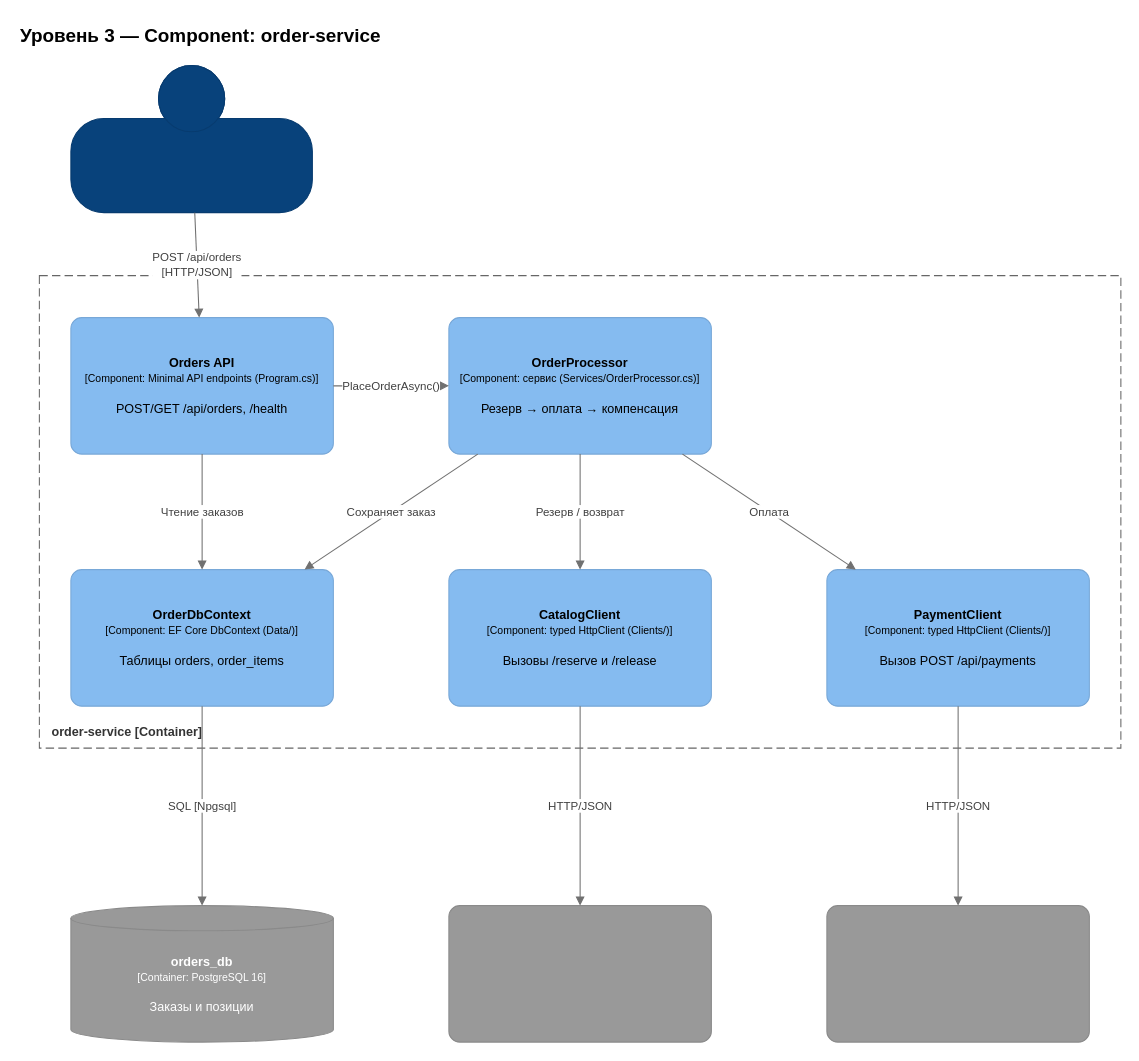
This 1139x1061 diagram has some shape labels left out. Here are the shapes that lost their labels. From the top down, the centre of each, then its label:
At point 191,139: "Покупатель [Person] Просматривает каталог и оформляет заказы".
At point 579,973: "catalog-service [Container: .NET 9] Товары и остатки".
At point 957,973: "payment-service [Container: .NET 9] Платежи".
